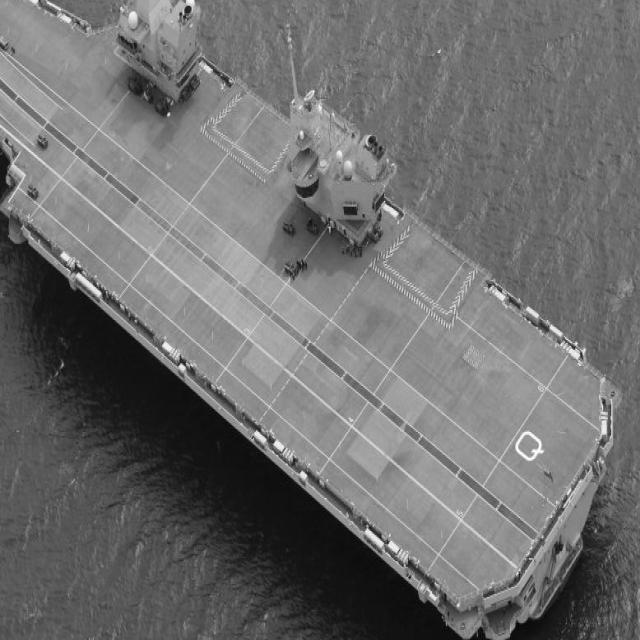Portanaves: (1, 1, 621, 640)
